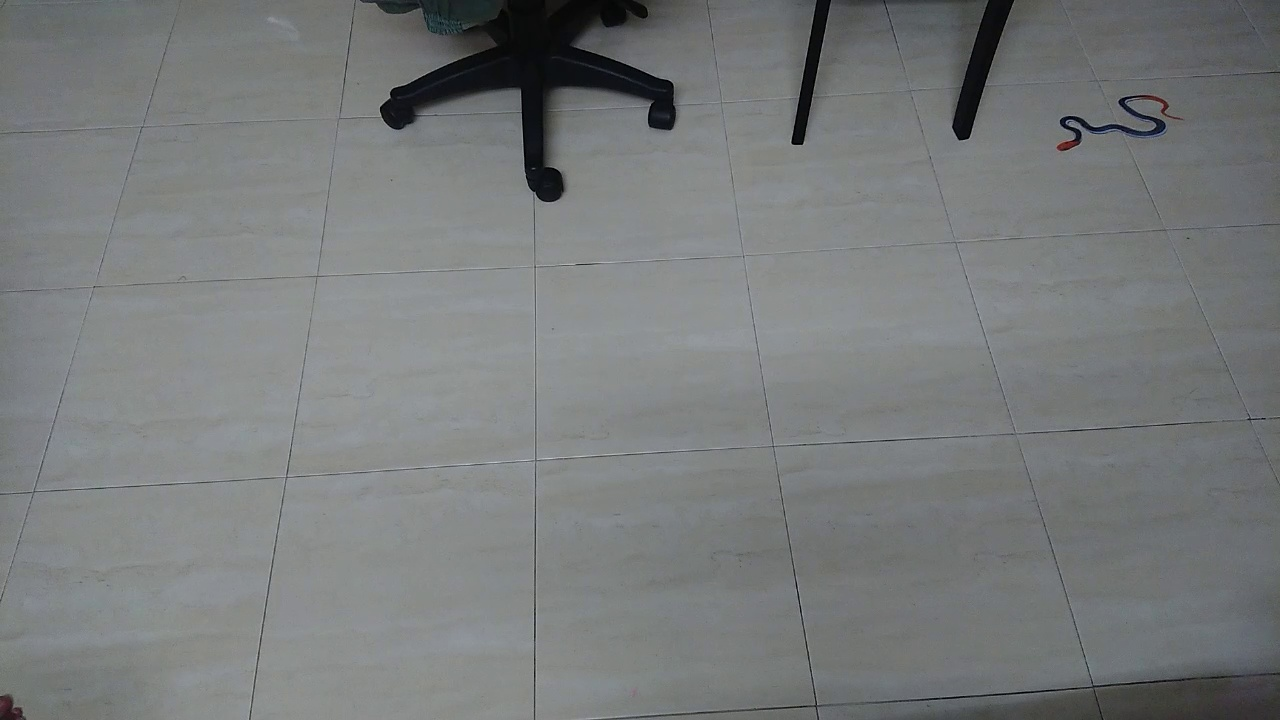snake: (1044, 80, 1194, 162)
